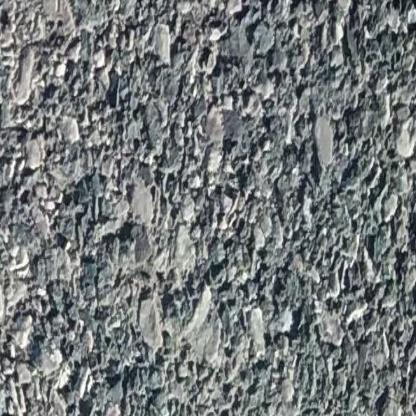Cracks: (258, 0, 416, 34)
